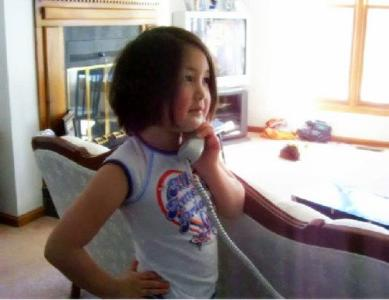person: (45, 28, 246, 299)
